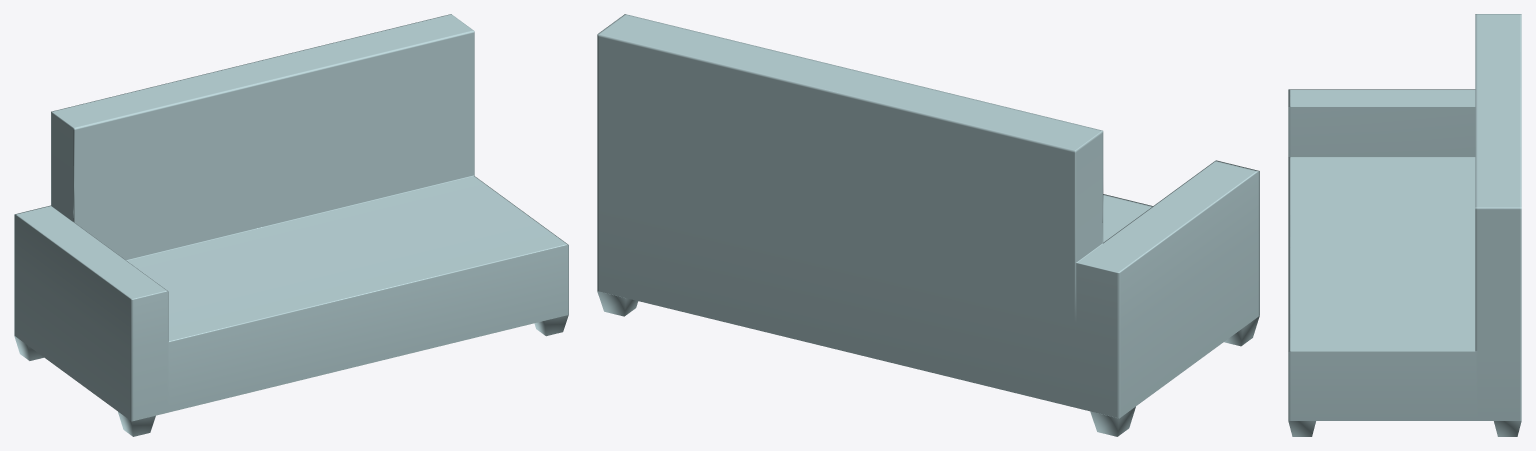
The model's file is L_shaped_couch.FBX.
3 views of the same model, side by side, from view 1: azimuth 30°, elevation 25°; view 2: azimuth 150°, elevation 25°; view 3: azimuth 270°, elevation 25° (orthographic). The views are drawn at different scales.
Parts seen in each view (by area): view 1: L_shaped_couch; view 2: L_shaped_couch; view 3: L_shaped_couch.
Part boxes in pixels (<box>): L_shaped_couch: <box>14,14,568,436</box>; L_shaped_couch: <box>597,14,1259,436</box>; L_shaped_couch: <box>1288,14,1521,436</box>.
Bounding box in the file's own units: 645 × 300 × 328.
